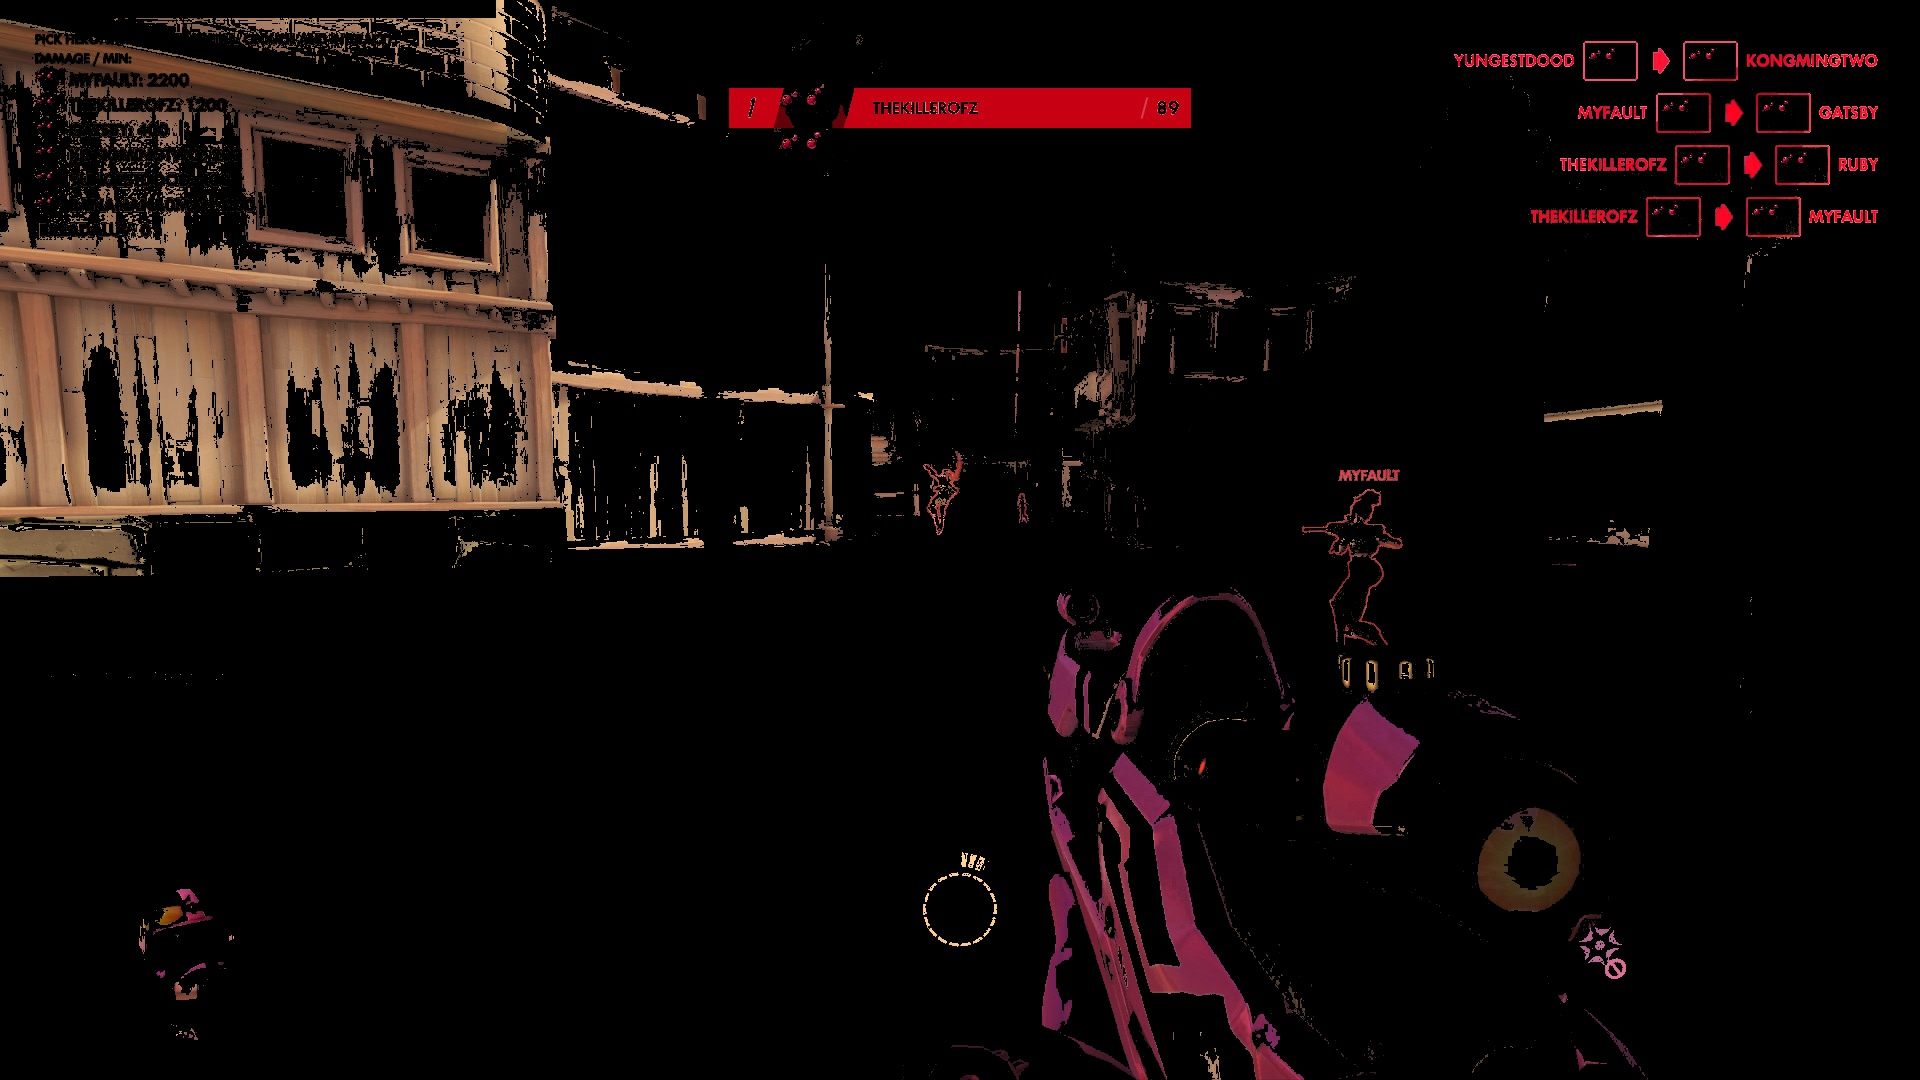widowmaker: (1305, 487, 1404, 669), (914, 448, 967, 546), (1009, 489, 1031, 527)
